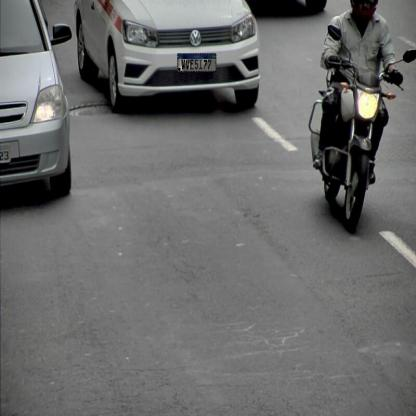PlacaM: (178, 53, 216, 72)
